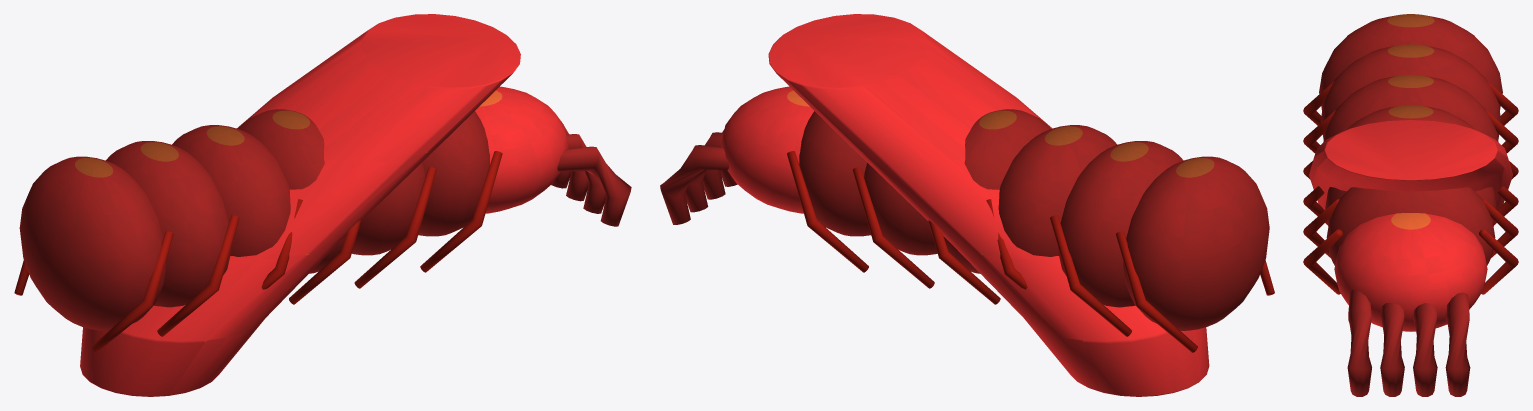
File: SM_RV_Forearm.fbx
The picture shows the model from 3 angles, left to right: view 1: azimuth 30°, elevation 25°; view 2: azimuth 150°, elevation 25°; view 3: azimuth 270°, elevation 25°; orthographic projection. The views are drawn at different scales.
Parts seen in each view (by area): view 1: SM_RV_Forearm; view 2: SM_RV_Forearm; view 3: SM_RV_Forearm.
Boxes of the visible parts, <box> form: SM_RV_Forearm: <box>14,14,631,396</box>; SM_RV_Forearm: <box>660,14,1274,396</box>; SM_RV_Forearm: <box>1303,14,1518,396</box>.
Bounding box in the file's own units: 21.1 × 60.1 × 25.
